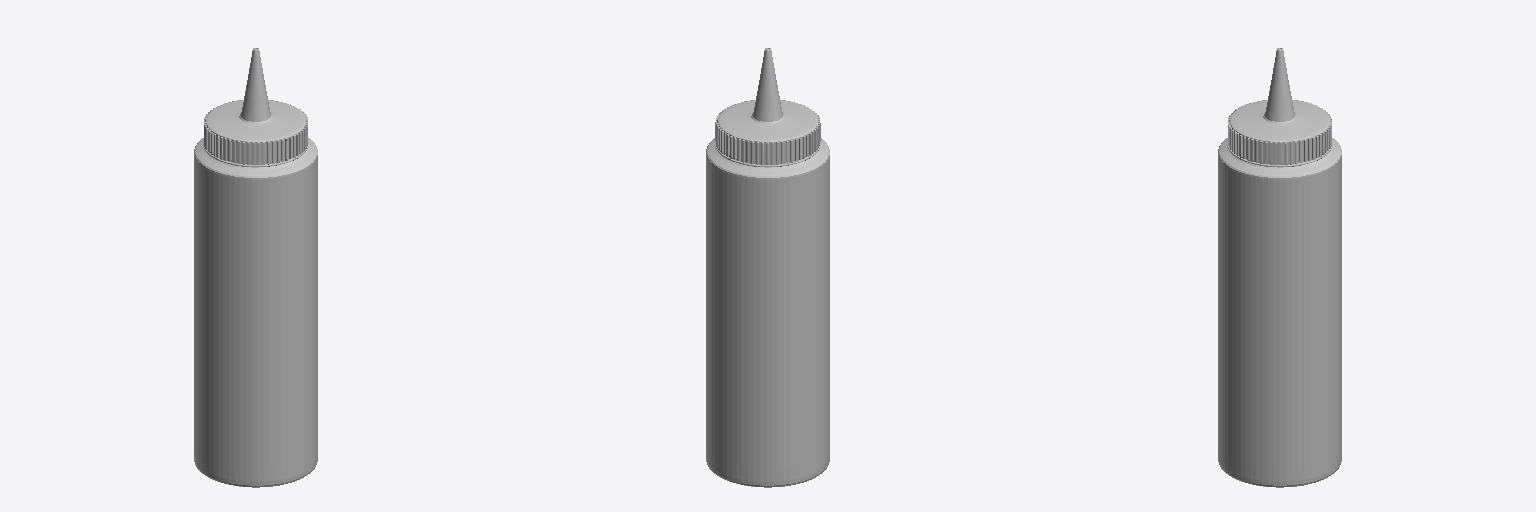
The model's file is mustard_ketchup.obj.
3 views of the same model, side by side, from view 1: azimuth 30°, elevation 25°; view 2: azimuth 150°, elevation 25°; view 3: azimuth 270°, elevation 25° (orthographic).
Parts seen in each view (by area): view 1: mustard_Circle.003; view 2: mustard_Circle.003; view 3: mustard_Circle.003.
Part boxes in pixels (bbox=[...]): mustard_Circle.003: bbox=[194, 48, 317, 487]; mustard_Circle.003: bbox=[706, 48, 829, 487]; mustard_Circle.003: bbox=[1218, 48, 1341, 487].
Size of the model in its own units: 0.0751 by 0.2764 by 0.0751.